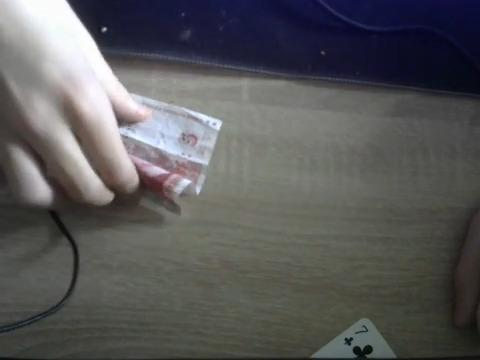5leva: (118, 95, 223, 211)
